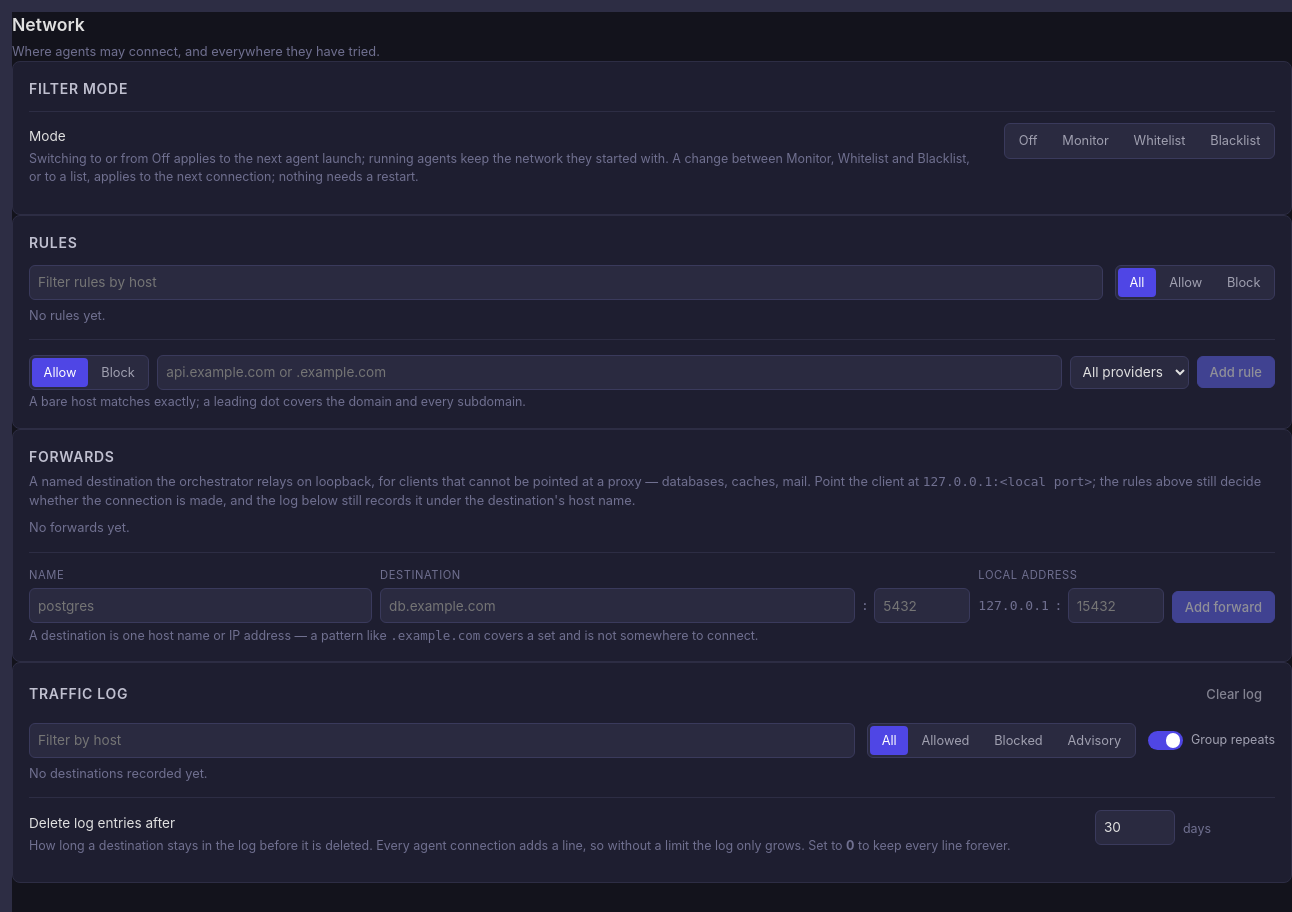
Test: Network settings › shows the server's reason when a host is refused
Type "https://evil.example" into the field named "Host pattern" at coordinates (610, 372), box [157,355,1062,390]
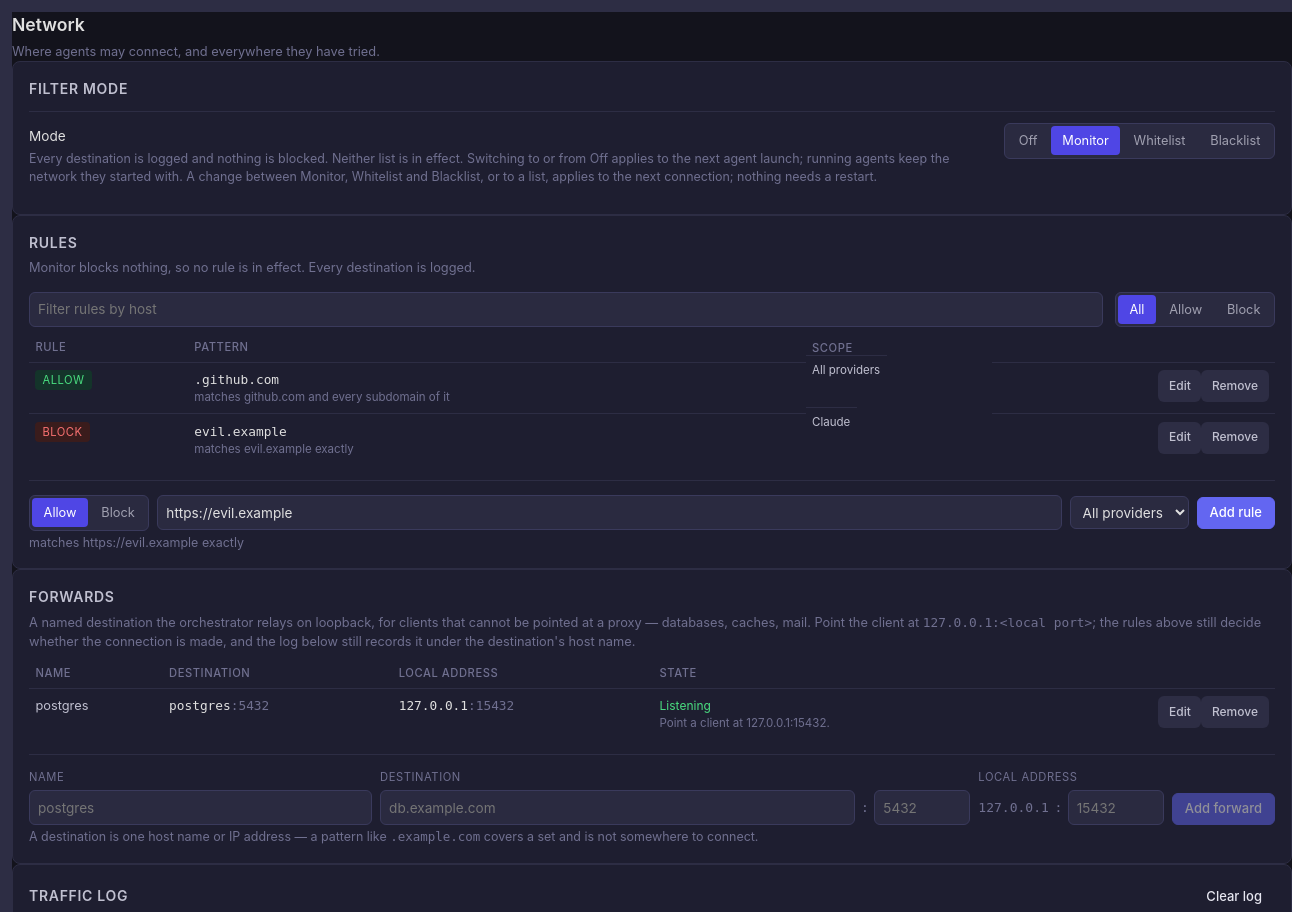
Click the button "Add rule" at coordinates (1236, 513), box [1197,497,1275,529]
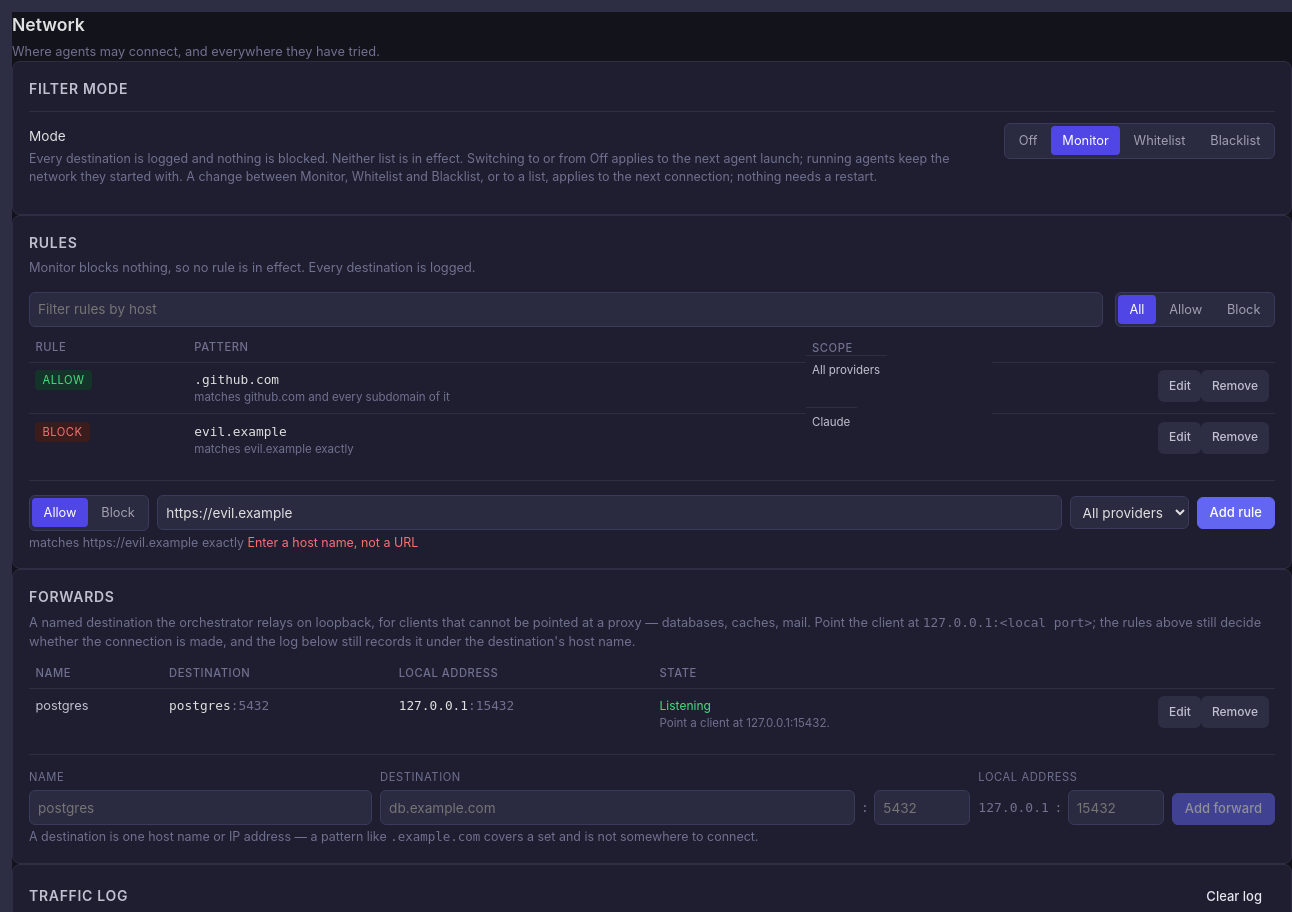
Expected: the text "Enter a host name, not a URL" is shown, [244,535,418,550]
